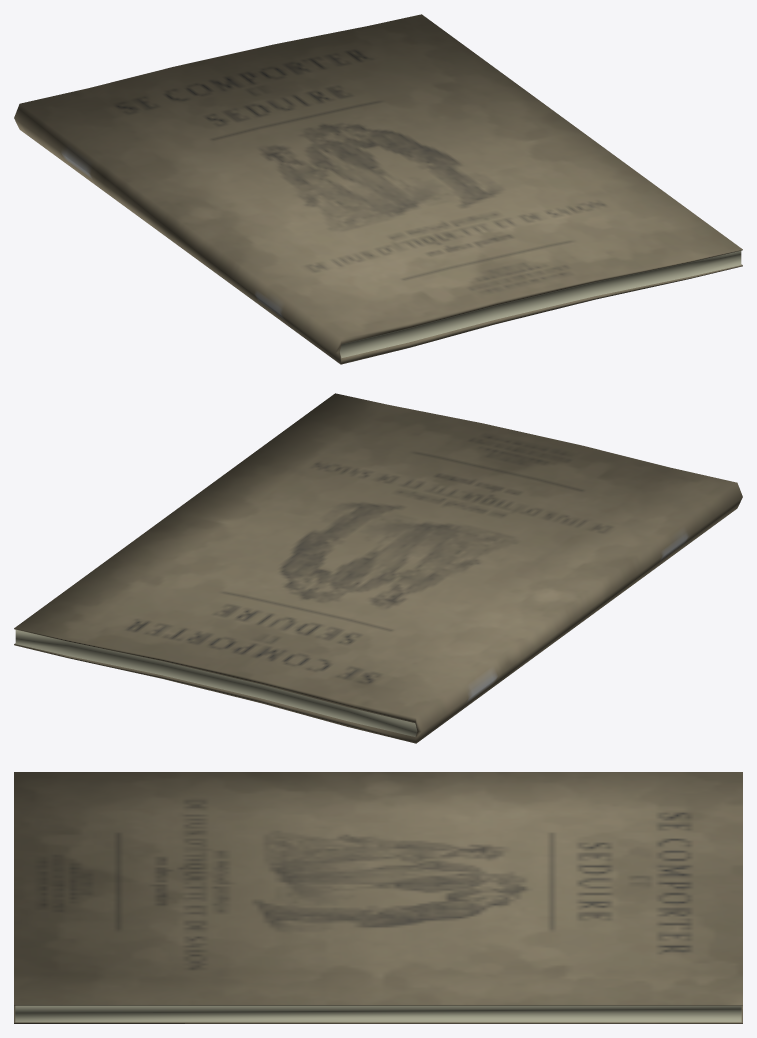
Rendered from f_BookB.fbx.
3 views of the same model, one above another, from view 1: azimuth 30°, elevation 25°; view 2: azimuth 150°, elevation 25°; view 3: azimuth 270°, elevation 25° (orthographic). The views are drawn at different scales.
Parts seen in each view (by area): view 1: LivreB_LD; view 2: LivreB_LD; view 3: LivreB_LD.
Boxes of the visible parts, x1,y1,x2,y2 form: LivreB_LD: (14, 14, 742, 364); LivreB_LD: (14, 393, 742, 743); LivreB_LD: (14, 772, 742, 1023).
Size of the model in its own units: 26.09 by 1.58 by 35.58.
